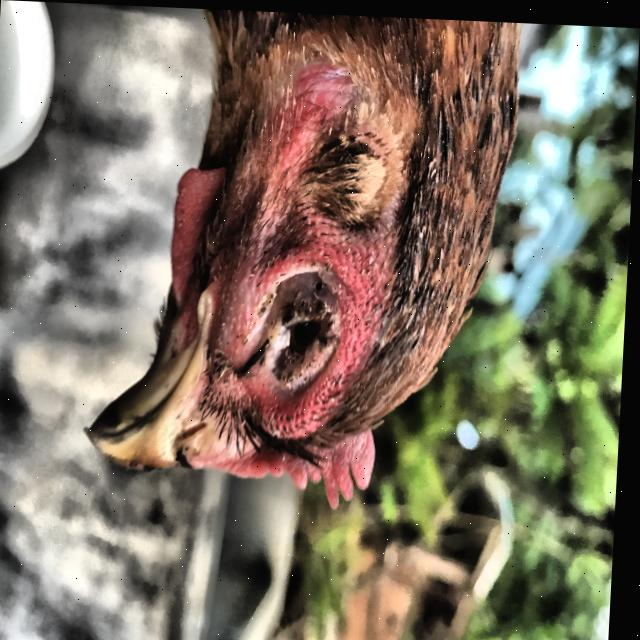Coryza: (73, 3, 473, 525)
